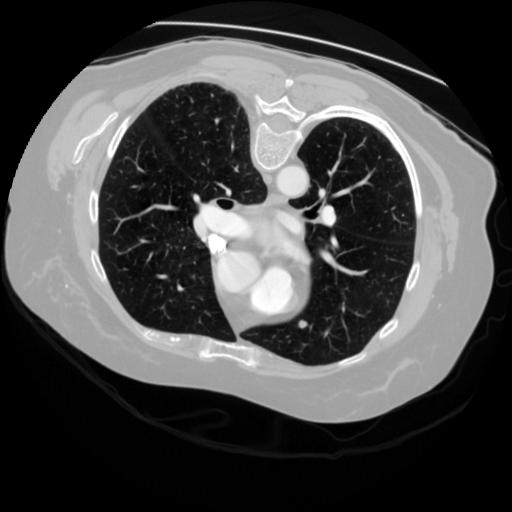nodule: (293, 316, 310, 333)
